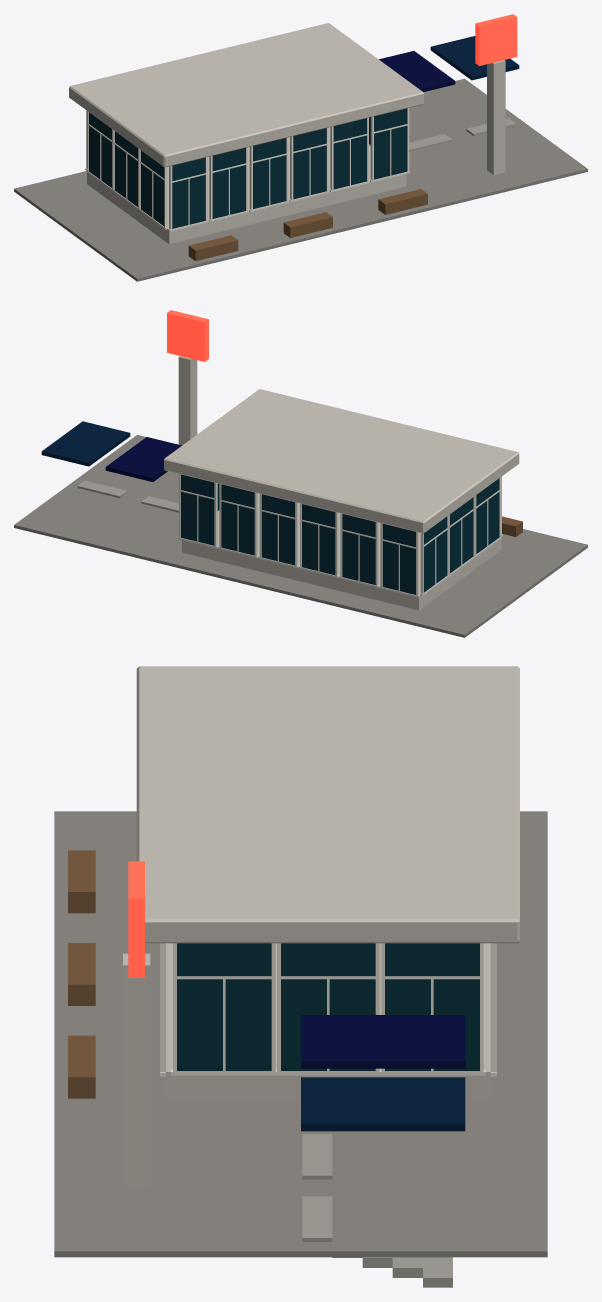
File: metro.glb
3 views of the same model, one above another, from view 1: azimuth 30°, elevation 25°; view 2: azimuth 150°, elevation 25°; view 3: azimuth 270°, elevation 25° (orthographic). The views are drawn at different scales.
Visible parts, largest first — view 1: metro; view 2: metro; view 3: metro.
Part boxes in pixels (x1=…): metro: x1=14, y1=14, x2=587, y2=281; metro: x1=14, y1=310, x2=587, y2=637; metro: x1=54, y1=666, x2=547, y2=1287.
Size of the model in its own units: 19 by 7 by 9.
